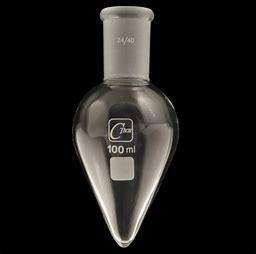Pear shaped flask: (68, 7, 179, 242)
